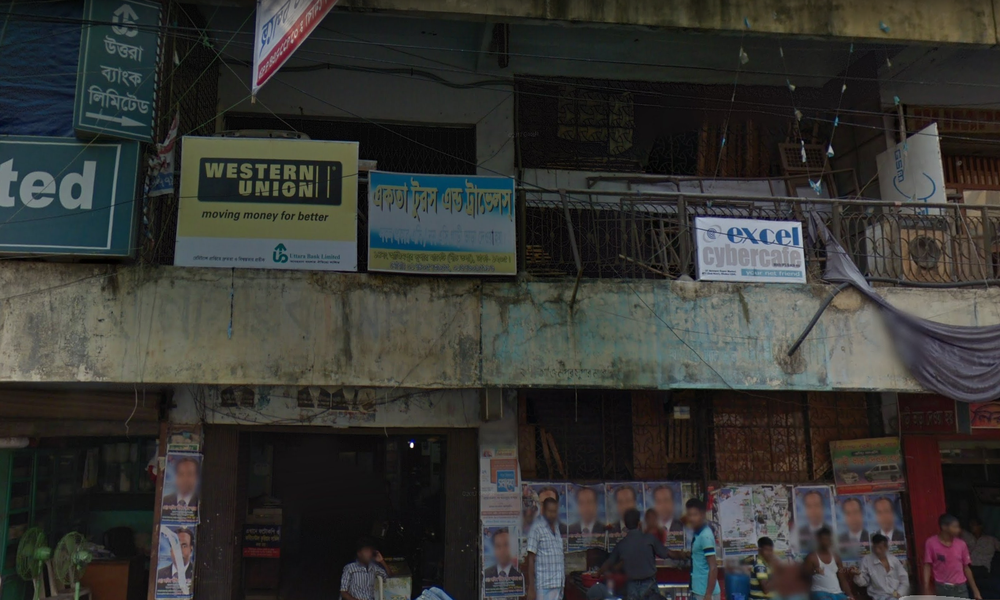SignBoard: (178, 136, 356, 277), (368, 171, 518, 274), (696, 218, 806, 286)
